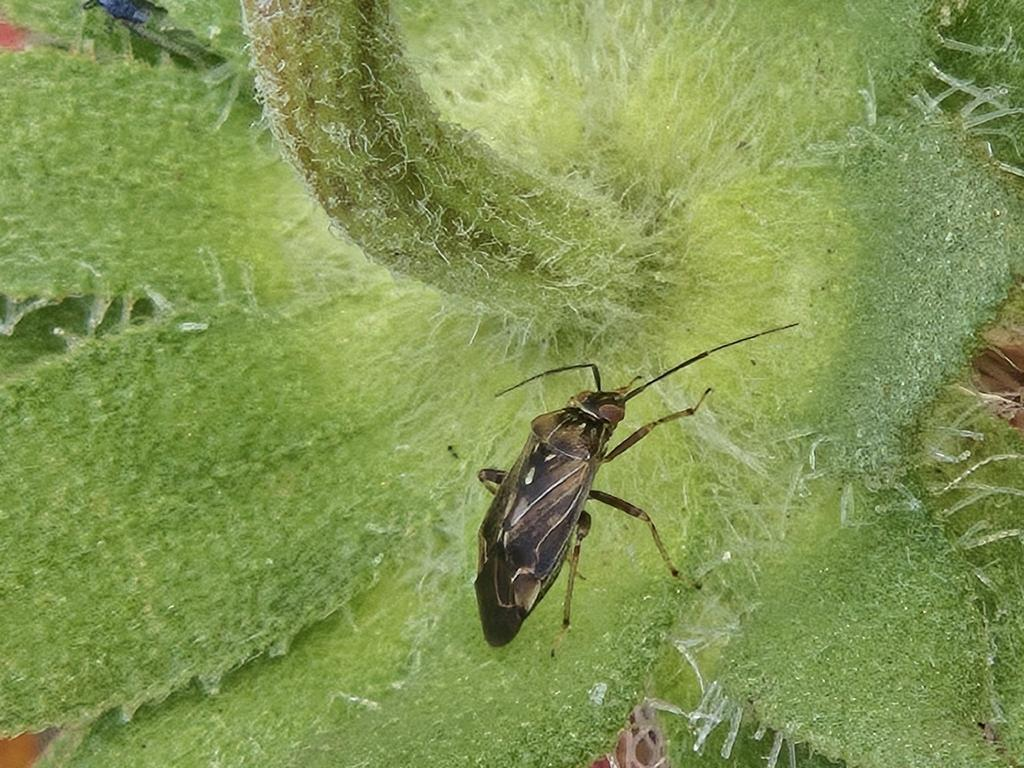plant_bugs: (421, 273, 820, 686)
